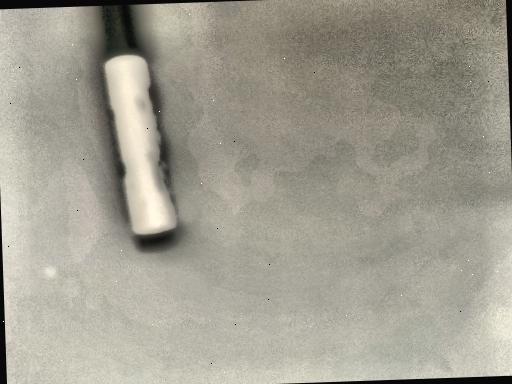marcador negro: (97, 4, 175, 246)
